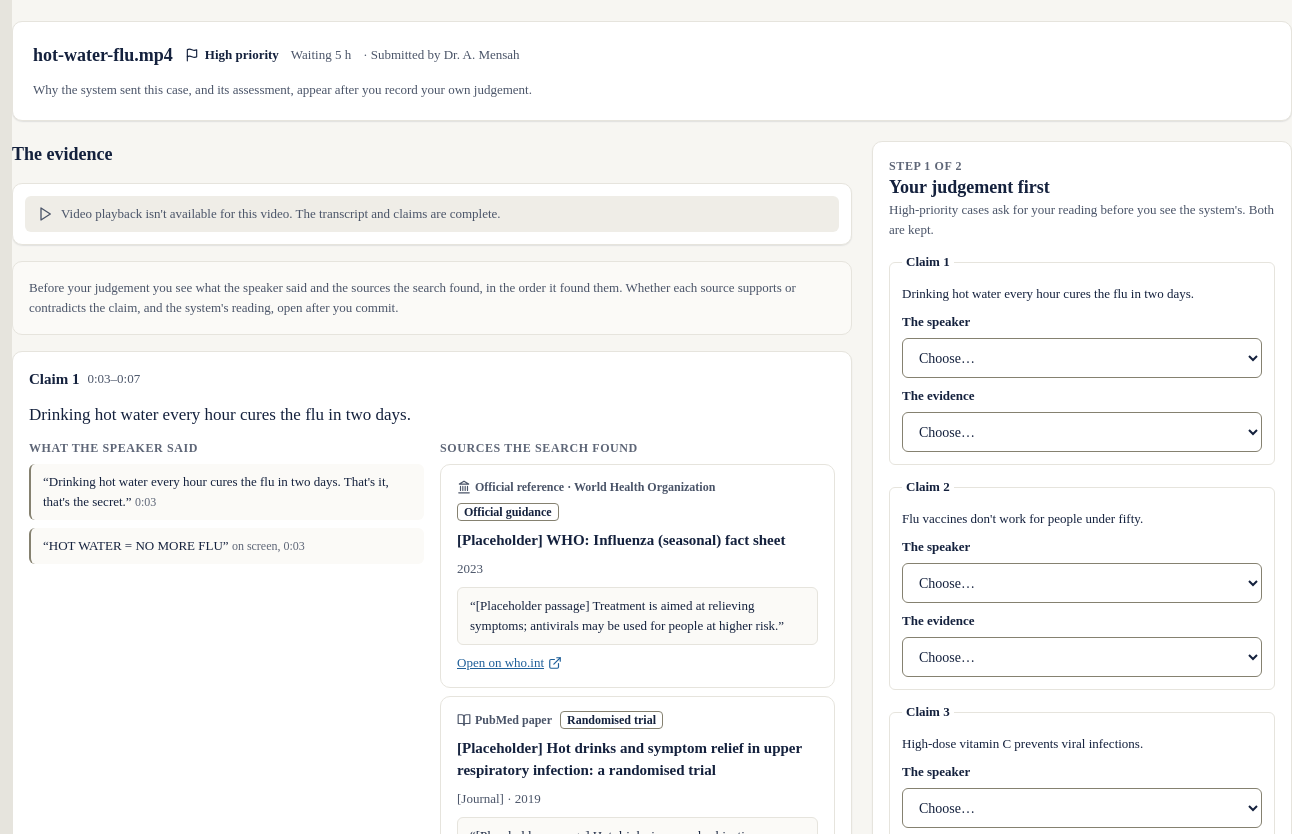
Test: ReviewWorkspace: HIGH priority (judgement first, run by the server since T34) › asks for a judgement on every claim the case lists, not only the deciding one
Check: the element "Claim 1" is shown, box [889, 252, 1275, 465]
Check: the element "Claim 2" is shown, box [889, 477, 1275, 690]
Select "ENDORSES: Presents the claim as true, in their own voice" in the dropdown with id "mine-st-c1" at (1082, 358), box [902, 338, 1262, 378]
Select "Contradicted by evidence" in the dropdown with id "mine-v-c1" at (1082, 432), box [902, 412, 1262, 452]
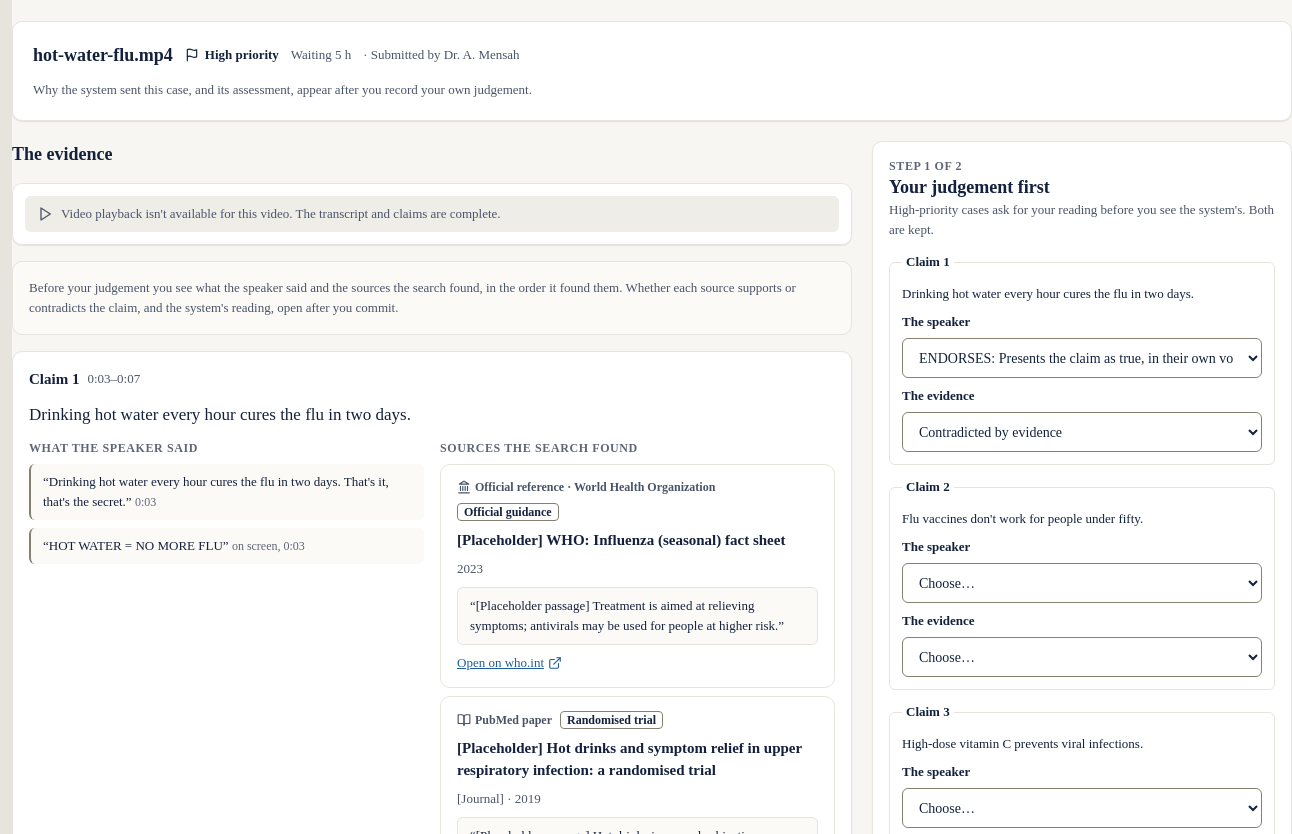
Select "ENDORSES: Presents the claim as true, in their own voice" in the dropdown with id "mine-st-c1" at (1082, 358), box [902, 338, 1262, 378]
Select "Insufficient evidence" in the dropdown with id "mine-v-c1" at (1082, 432), box [902, 412, 1262, 452]
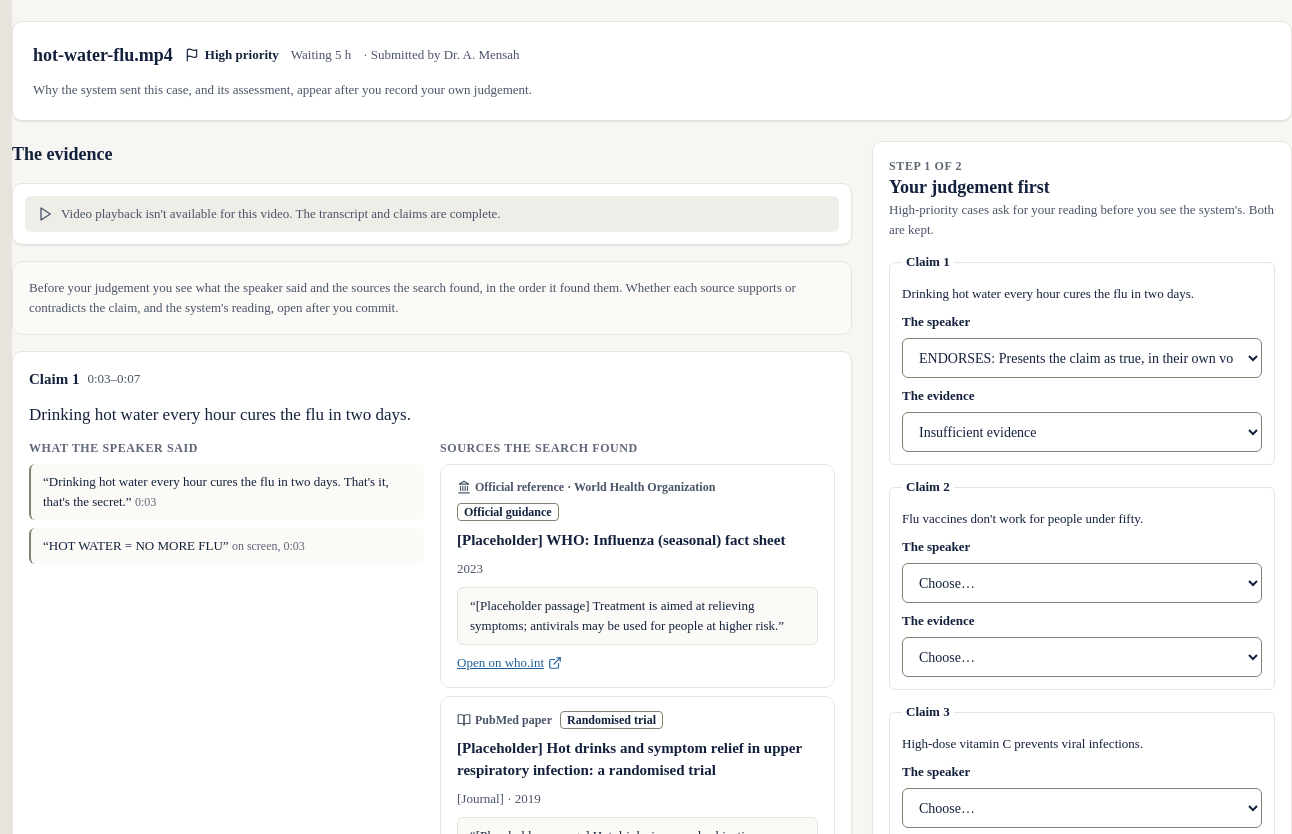
Select "ENDORSES: Presents the claim as true, in their own voice" in the 2nd dropdown labelled "The speaker" at (1082, 583), box [902, 563, 1262, 603]
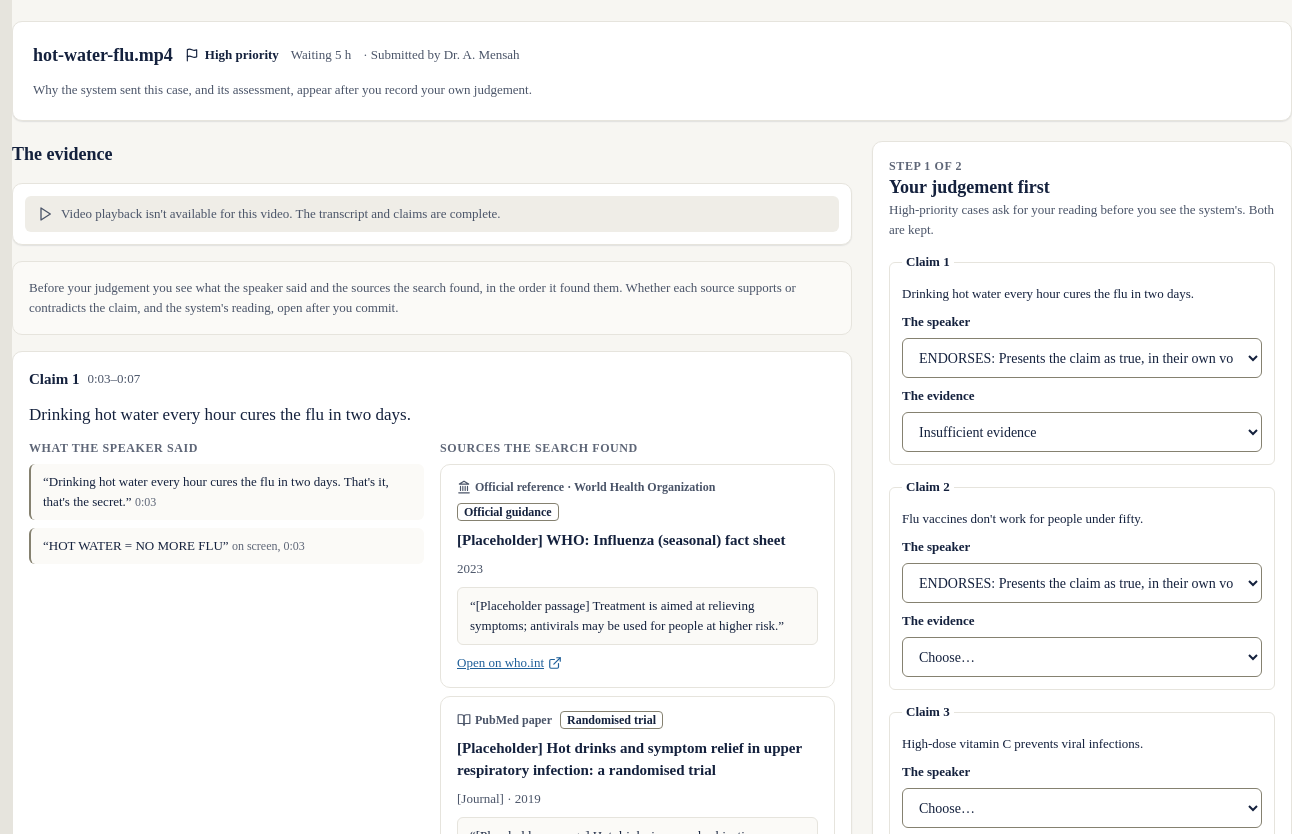
Select "Insufficient evidence" in the 2nd dropdown labelled "The evidence" at (1082, 657), box [902, 637, 1262, 677]
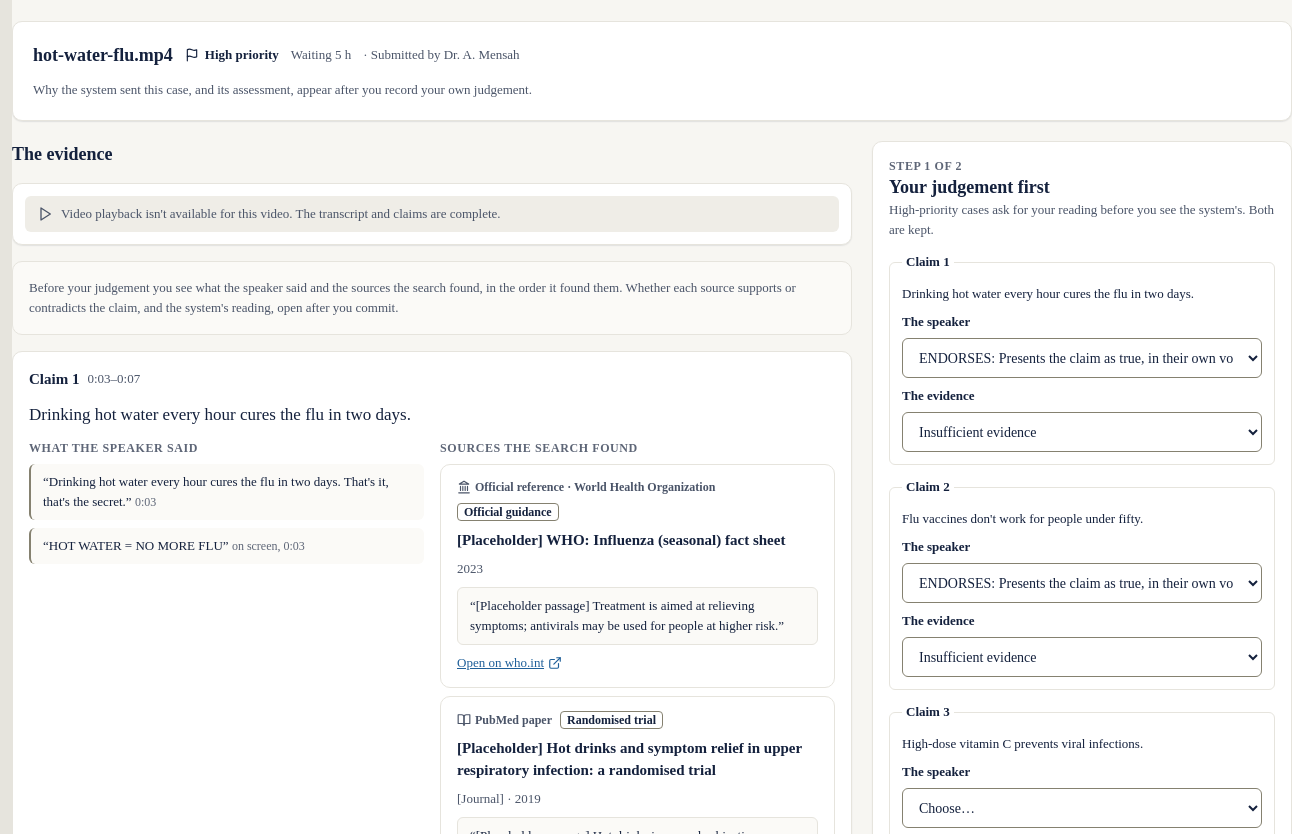
Select "ENDORSES: Presents the claim as true, in their own voice" in the 3rd dropdown labelled "The speaker" at (1082, 808), box [902, 788, 1262, 828]
(page scrolled)
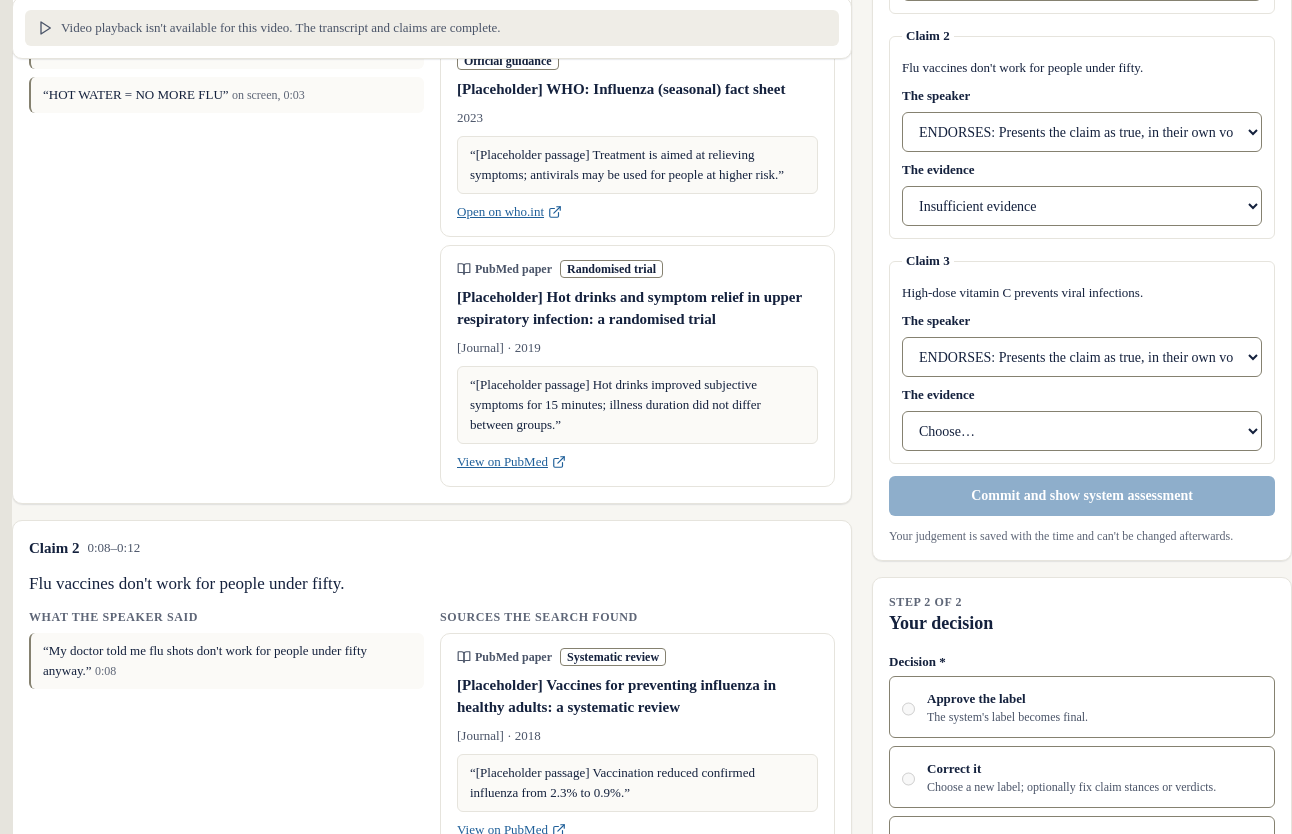
Select "Insufficient evidence" in the dropdown with id "mine-v-c3" at (1082, 431), box [902, 411, 1262, 451]
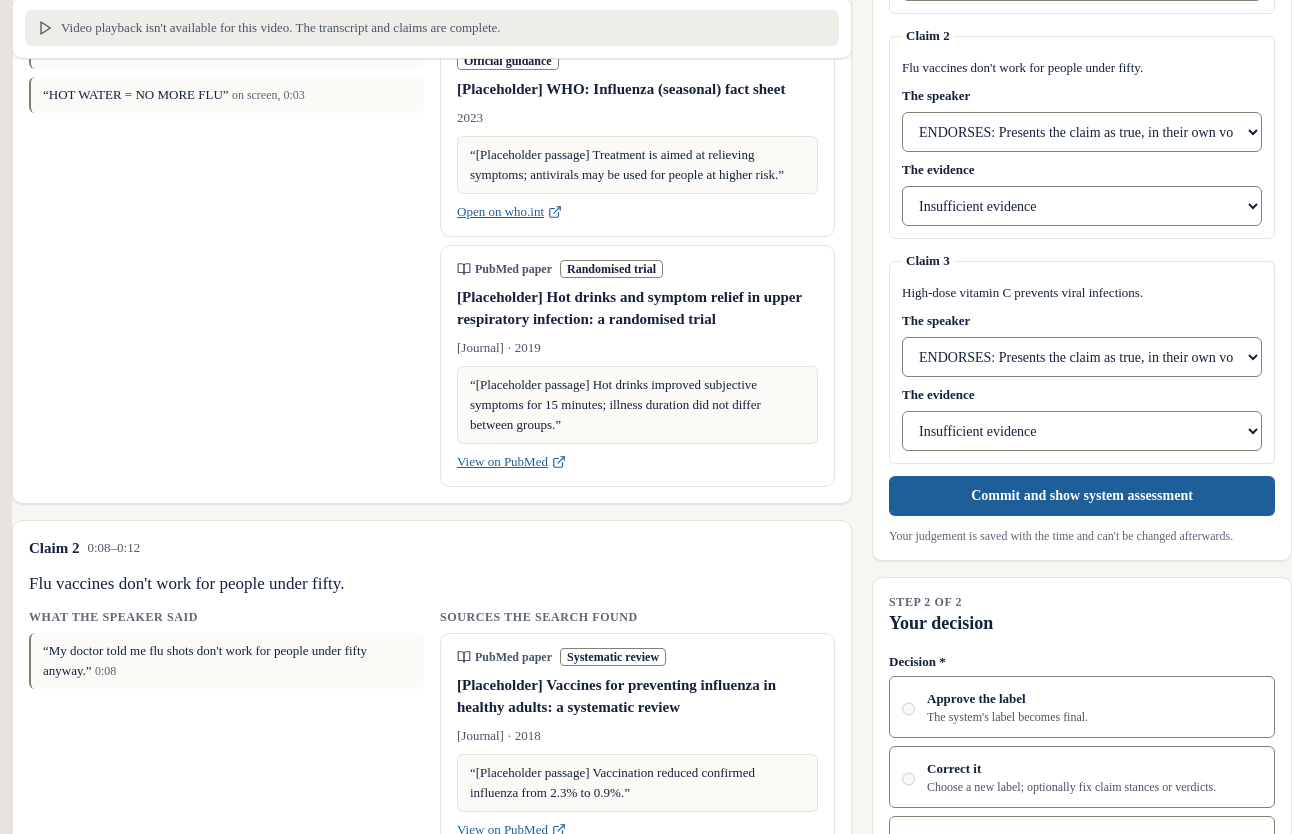
Check: the button "Commit and show system assessment" is enabled, box [889, 476, 1275, 516]
